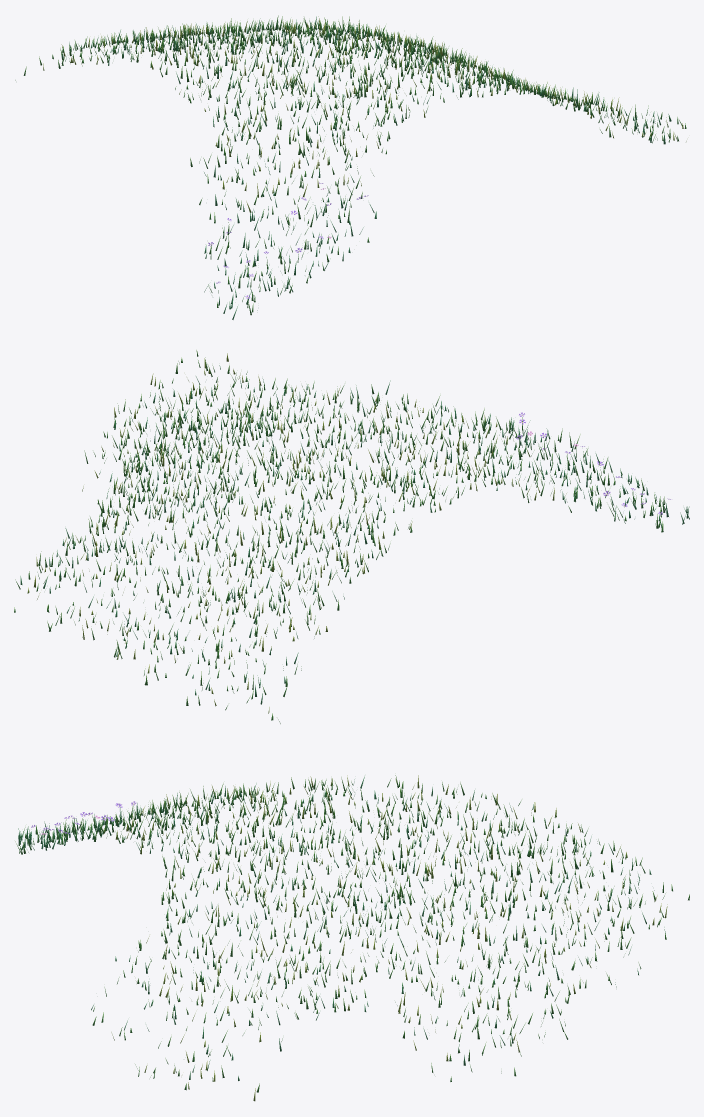
3 views of the same model, one above another, from view 1: azimuth 30°, elevation 25°; view 2: azimuth 150°, elevation 25°; view 3: azimuth 270°, elevation 25° (orthographic). The views are drawn at different scales.
Parts seen in each view (by area): view 1: gc_35; view 2: gc_35; view 3: gc_35.
Boxes of the visible parts, x1,y1,x2,y2 form: gc_35: [15, 15, 686, 319]; gc_35: [14, 350, 689, 723]; gc_35: [15, 775, 689, 1101].
Bounding box in the file's own units: 13.06 × 3.46 × 14.09.
Materials: 1 (1 with a texture image).
